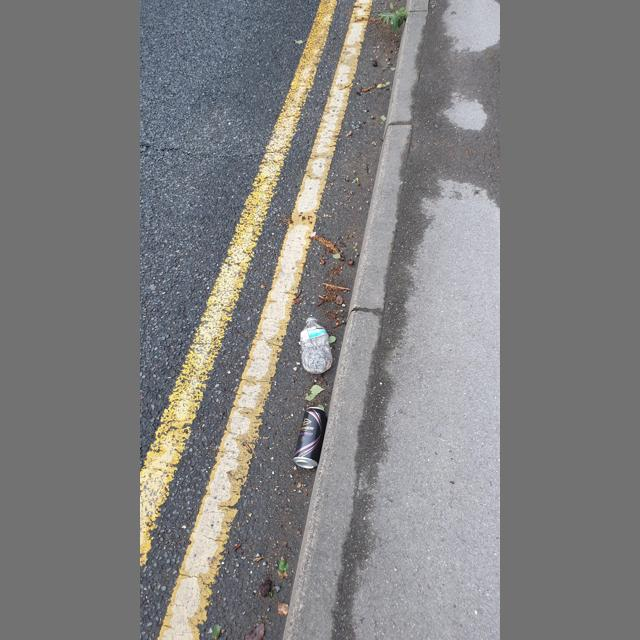litter: (293, 407, 327, 468), (301, 317, 332, 373)
